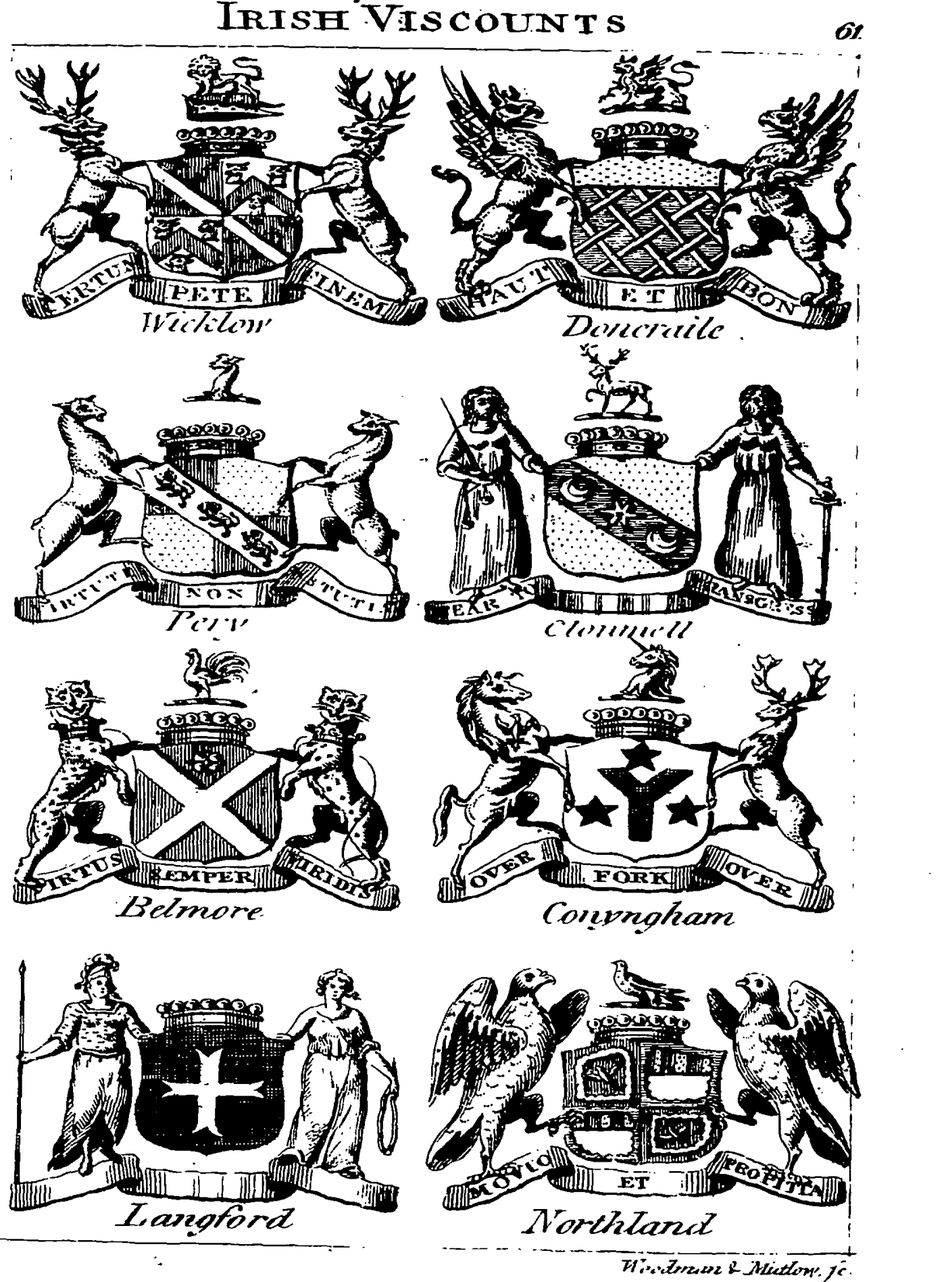coat_of_arms: (415, 933, 862, 1237), (12, 45, 431, 352), (440, 47, 865, 343), (432, 347, 847, 642), (424, 645, 842, 924), (14, 939, 403, 1231), (7, 360, 412, 640), (16, 647, 410, 931)
